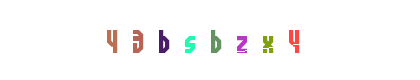3: (123, 0, 203, 80)
4: (86, 0, 166, 80), (254, 0, 334, 80)
B: (149, 0, 229, 80), (175, 0, 255, 80)
S: (170, 0, 250, 80)
X: (228, 0, 308, 80)
Z: (200, 0, 280, 80)
